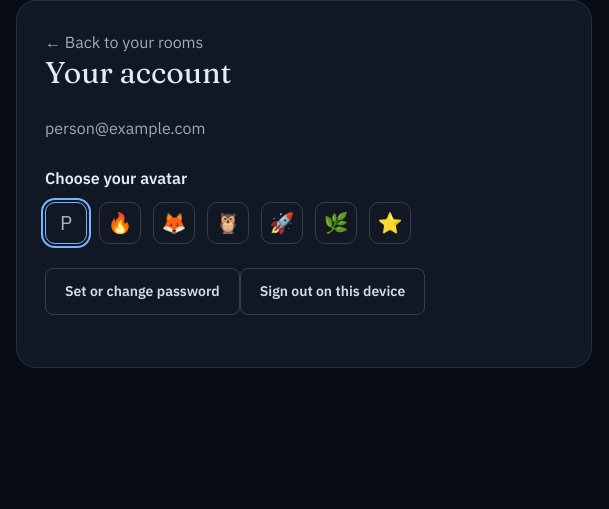
Test: opens password editing only on request and closes it after saving
Click the button "Set or change password" at [142, 291], box top-left (45, 268), bottom-right (240, 315)
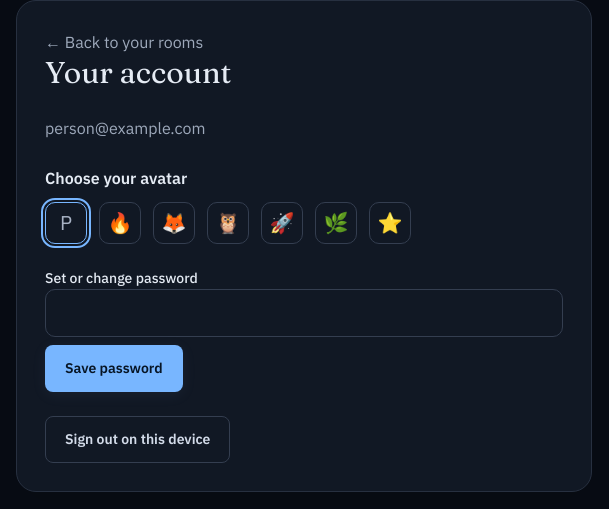
Type "a-long-test-password" into the password field labelled "Set or change password" at [304, 313], box top-left (45, 289), bottom-right (563, 337)
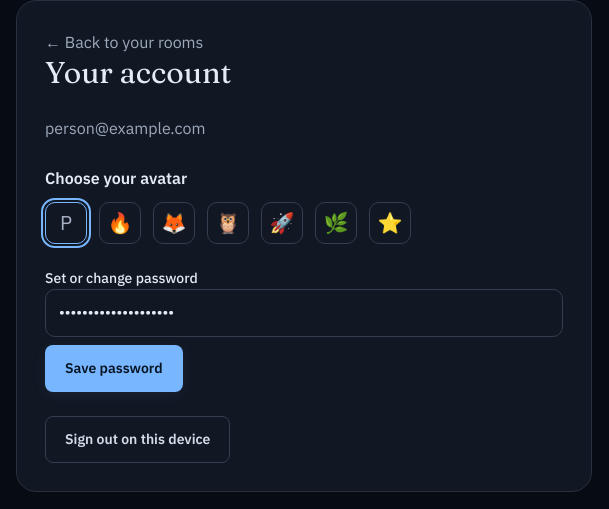
Click the button "Save password" at [114, 368], box top-left (45, 345), bottom-right (183, 392)
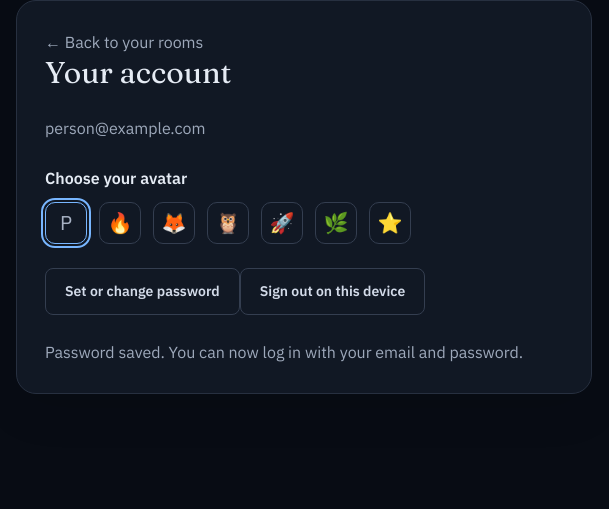
Check: the message shows "Password saved", box top-left (45, 342), bottom-right (523, 362)
